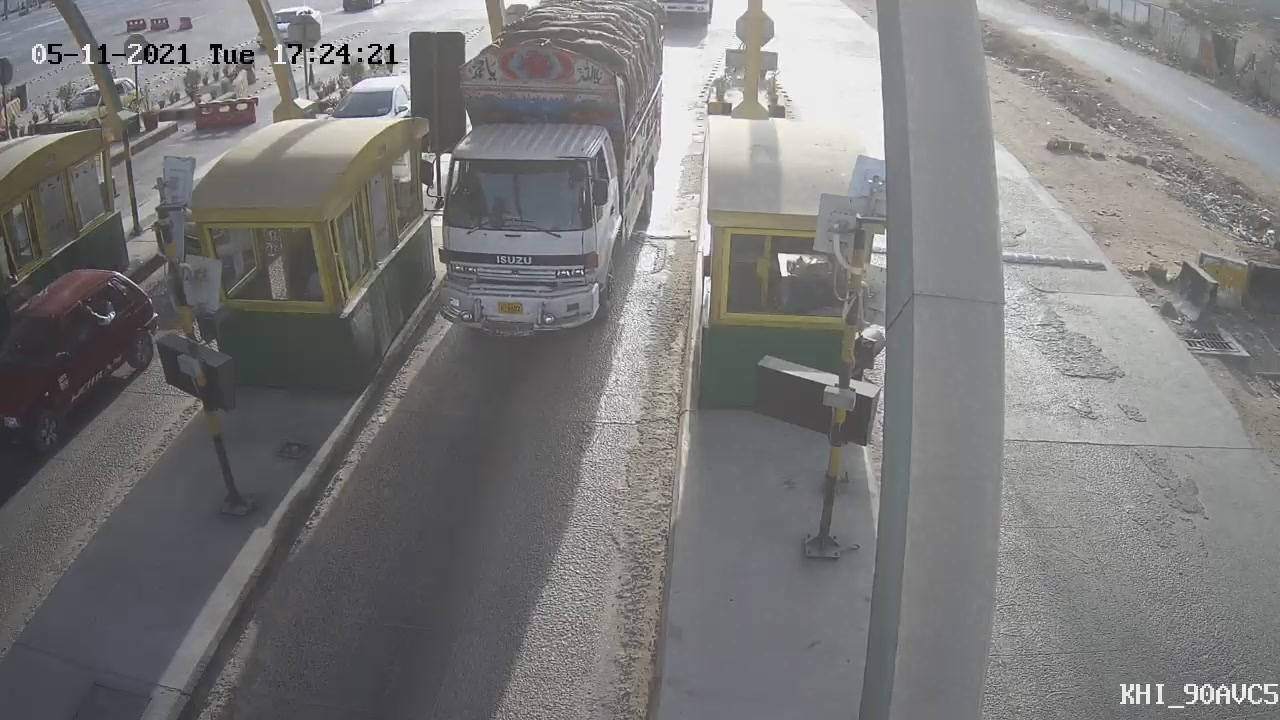F5: (389, 1, 683, 360)
